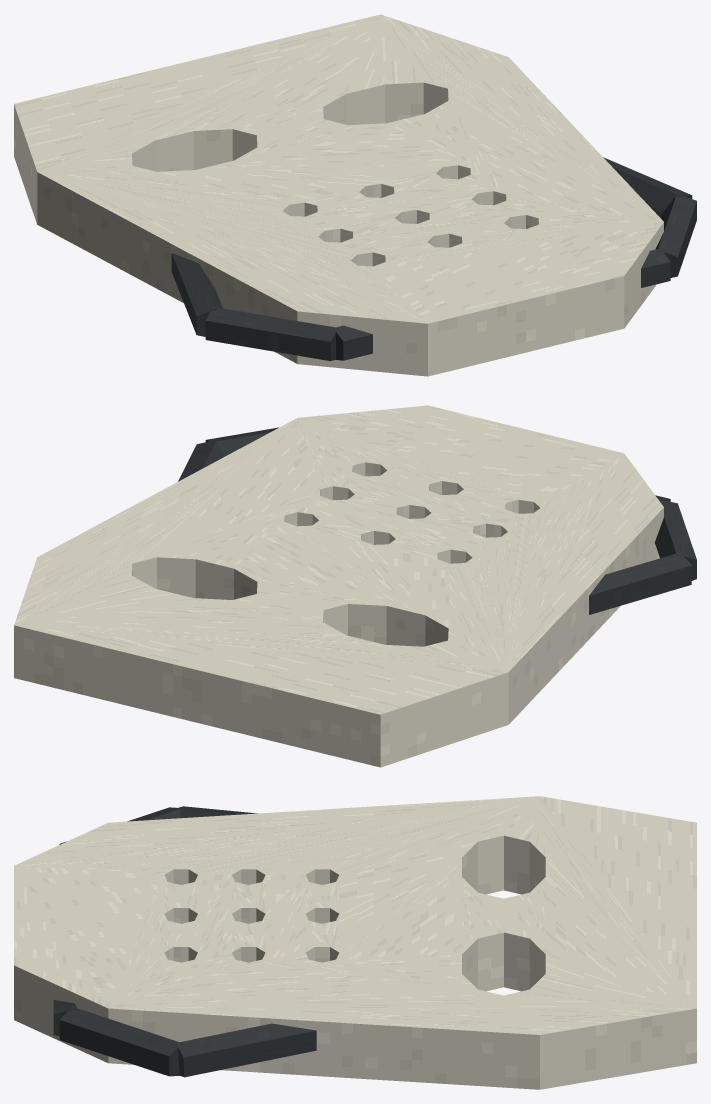
File: mask_hockey.glb
3 renders of one model, top to bottom at view 1: azimuth 30°, elevation 25°; view 2: azimuth 150°, elevation 25°; view 3: azimuth 270°, elevation 25°, orthographic. The views are drawn at different scales.
Visible parts, largest first — view 1: block_contoured face shell, block_strap 1, block_strap 0, block_strap 3, block_strap 2, block_strap 4; view 2: block_contoured face shell, block_strap 0, block_strap 1, block_strap 4, block_strap 3; view 3: block_contoured face shell, block_strap 4, block_strap 3, block_strap 0.
Boxes of the visible parts, bbox=[...] form: block_contoured face shell: bbox=[14, 14, 663, 376]; block_strap 1: bbox=[205, 306, 337, 360]; block_strap 0: bbox=[171, 253, 222, 336]; block_strap 3: bbox=[655, 194, 696, 277]; block_strap 2: bbox=[333, 248, 670, 360]; block_strap 4: bbox=[603, 157, 692, 217]; block_contoured face shell: bbox=[14, 405, 663, 767]; block_strap 0: bbox=[589, 552, 692, 614]; block_strap 1: bbox=[654, 499, 696, 580]; block_strap 4: bbox=[178, 439, 224, 481]; block_strap 3: bbox=[205, 427, 278, 456]; block_contoured face shell: bbox=[14, 796, 696, 1089]; block_strap 4: bbox=[176, 1023, 316, 1077]; block_strap 3: bbox=[59, 1006, 182, 1076]; block_strap 0: bbox=[176, 806, 257, 818].
Size of the model in its own units: 0.1898 by 0.0193 by 0.2181.
Materials: 1 (1 with a texture image).
